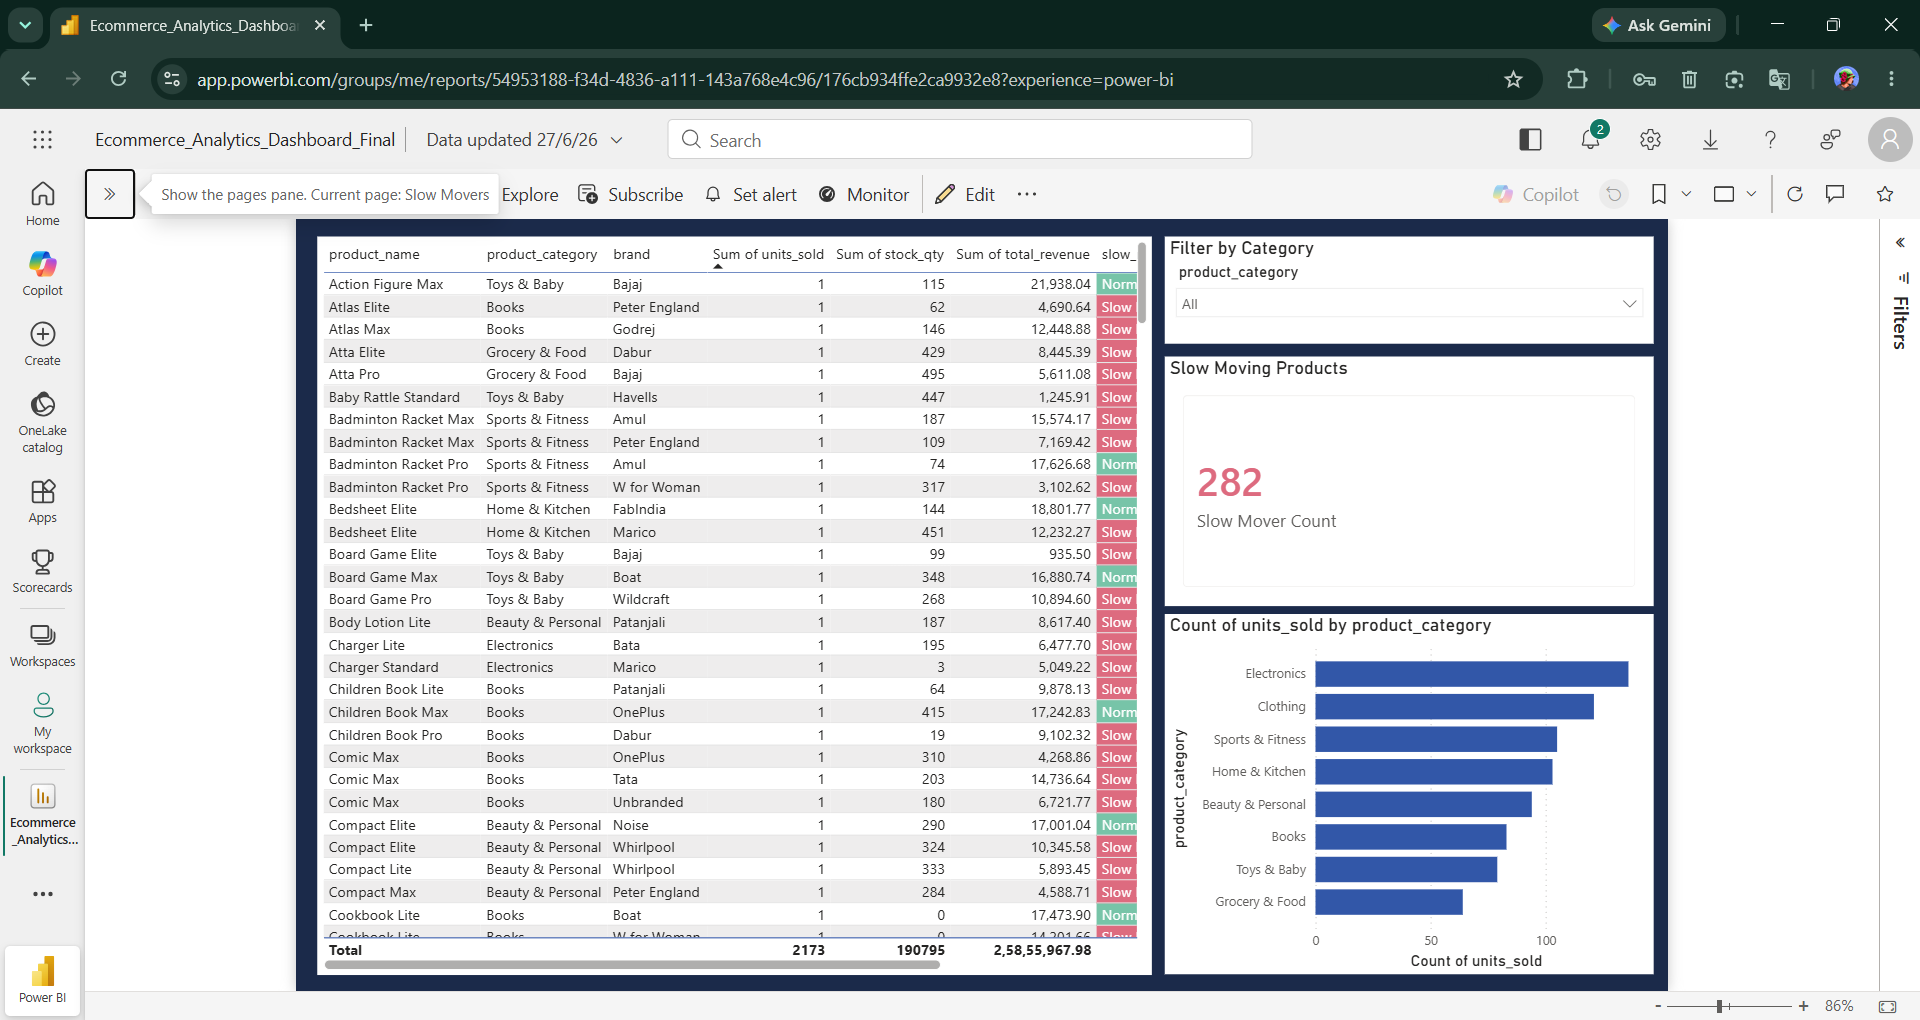

The dashboard page shown, as its layout file describes it:
{"tool":"powerbi","page":{"name":"Slow Movers","canvas":[1280,720],"ordinal":3},"visuals":[{"type":"tableEx","fields":{"Values":["SlowMovers.product_name","SlowMovers.product_category","SlowMovers.brand","Sum(SlowMovers.units_sold)","Sum(SlowMovers.stock_qty)","Sum(SlowMovers.total_revenue)","SlowMovers.slow_mover_flag","Sum(SlowMovers.revenue_vs_avg_pct)"]},"box":[20,16.2,778.8,688.8],"z":0},{"type":"cardVisual","title":"Slow Moving Products","fields":{"Data":["_Measures.Slow Mover Count"]},"box":[810,128.8,456.2,232.5],"z":1},{"type":"slicer","title":"Filter by Category","fields":{"Values":["SlowMovers.product_category"]},"box":[810,16.2,456.2,100],"z":2},{"type":"clusteredBarChart","fields":{"Category":["SlowMovers.product_category"],"Y":["CountNonNull(SlowMovers.units_sold)"]},"box":[810,368.8,456.2,336.2],"z":3}]}

Visuals, with their boxes on the page's 1280x720 design canvas (x1, y1, x2, y2). These are canvas units, not pixel positions in the 1920x1020 screenshot, which may show the page scaled, cropped or inside an application window:
tableEx - SlowMovers.product_name x SlowMovers.product_category: crop(20, 16, 799, 705)
"Slow Moving Products" cardVisual: crop(810, 129, 1266, 361)
"Filter by Category" slicer: crop(810, 16, 1266, 116)
clusteredBarChart - SlowMovers.product_category x CountNonNull(SlowMovers.units_sold): crop(810, 369, 1266, 705)
